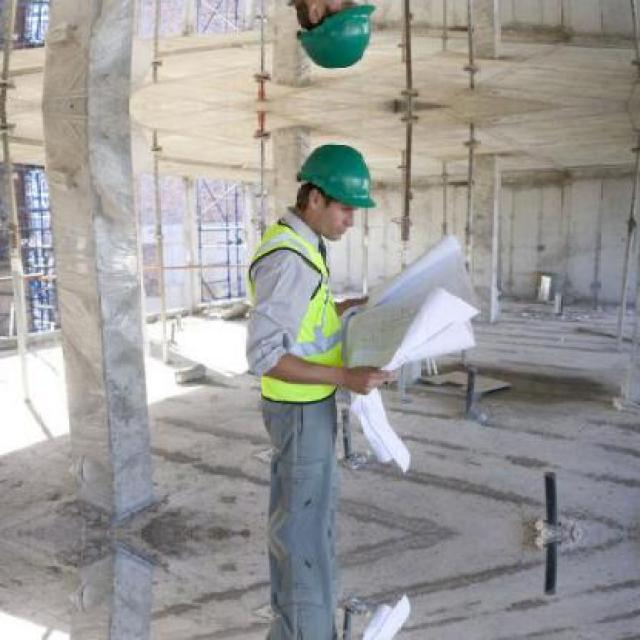reflective_jacket: (227, 217, 361, 407)
safety_helmet: (283, 134, 387, 219)
